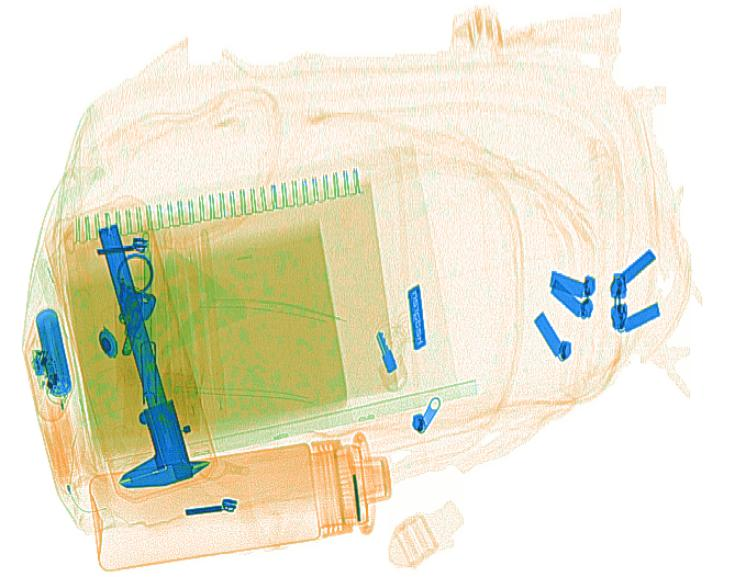battery: (33, 306, 75, 395)
